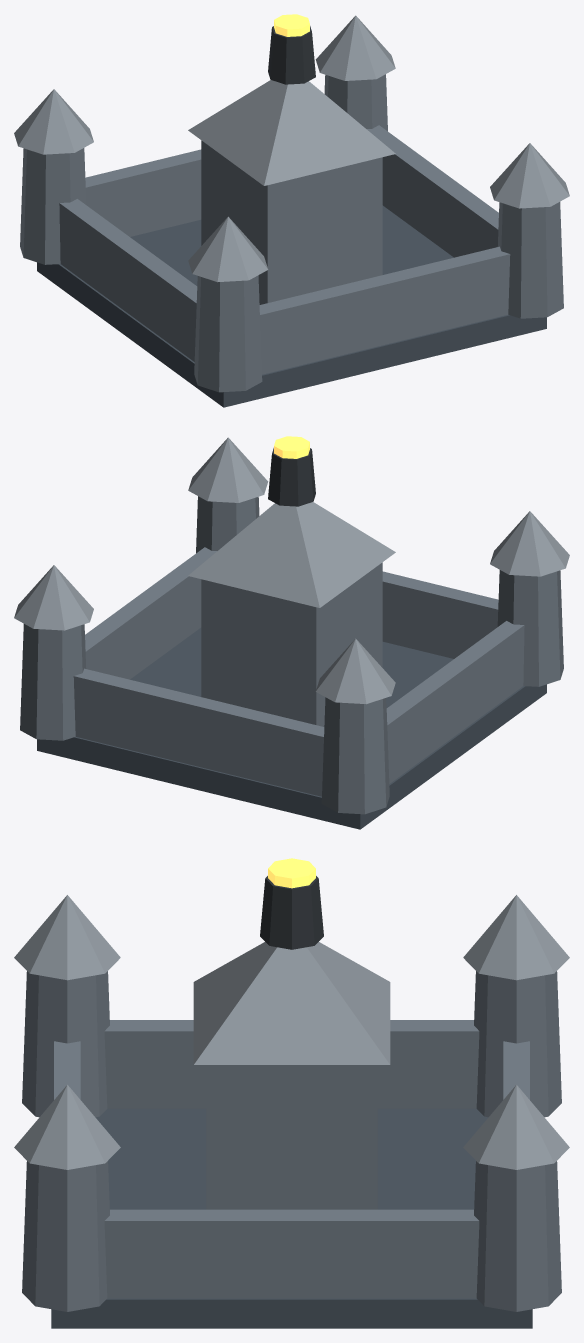
The model's file is stronghold.glb.
The picture shows the model from 3 angles, top to bottom: view 1: azimuth 30°, elevation 25°; view 2: azimuth 150°, elevation 25°; view 3: azimuth 270°, elevation 25°; orthographic projection. The views are drawn at different scales.
Visible parts, largest first — view 1: stronghold; view 2: stronghold; view 3: stronghold.
Boxes of the visible parts, left/top/right/bottom form: stronghold: left=14, top=14, right=569, bottom=407; stronghold: left=14, top=436, right=569, bottom=829; stronghold: left=14, top=858, right=569, bottom=1328.
Bounding box in the file's own units: 10.4 × 7.4 × 10.4.
